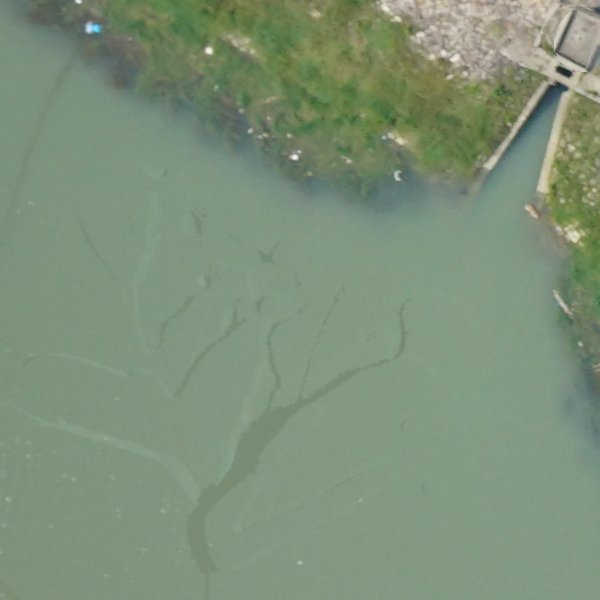Type1: (478, 17, 595, 215)
